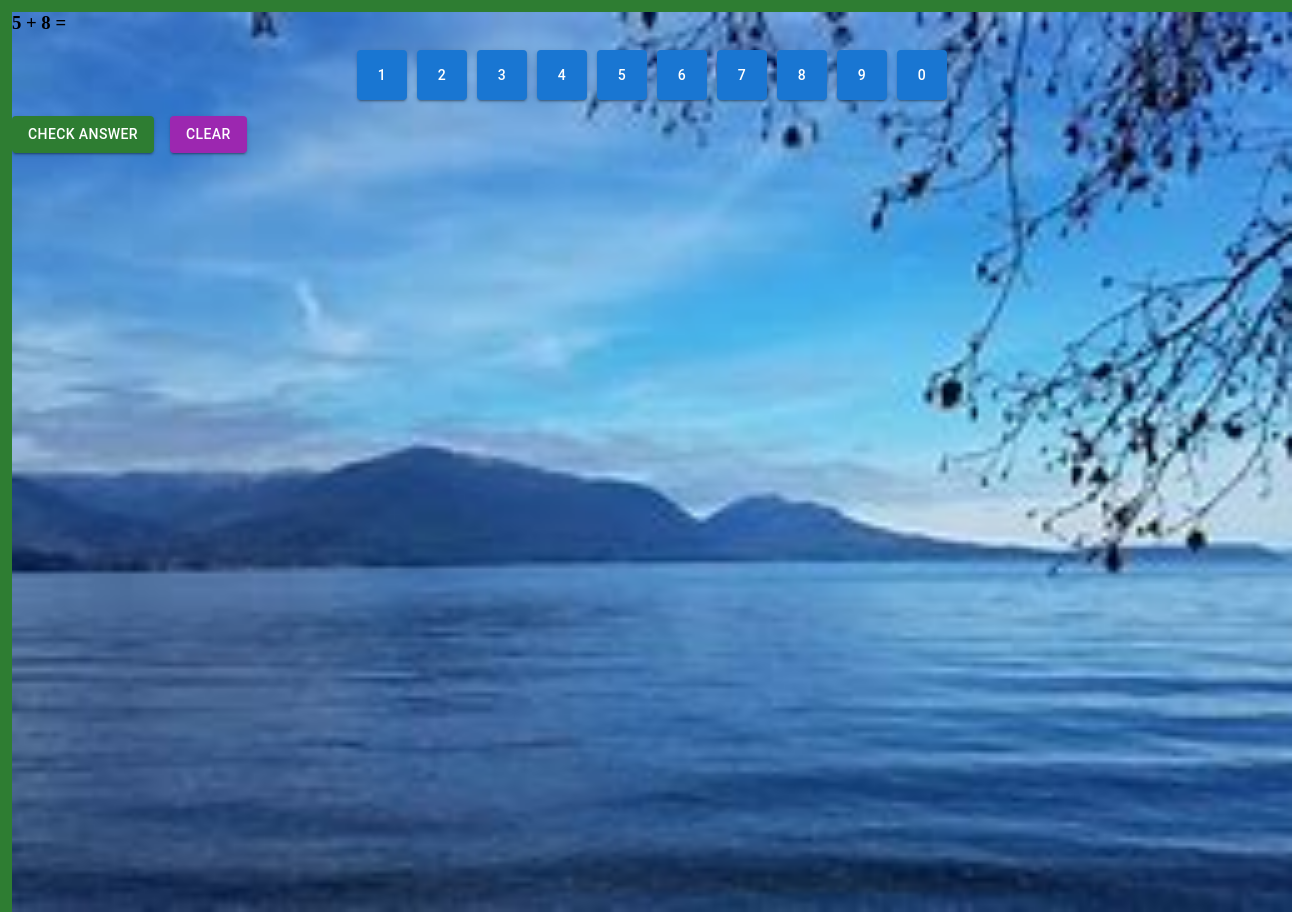
it: Game board › When there are more questions › When the user clicks on the Check Answer button without entering an answer › tells the user to enter an answer
The width and height of the screenshot is (1292, 912).
Click the button "Check Answer" at (83, 134), box [12,116,154,152]
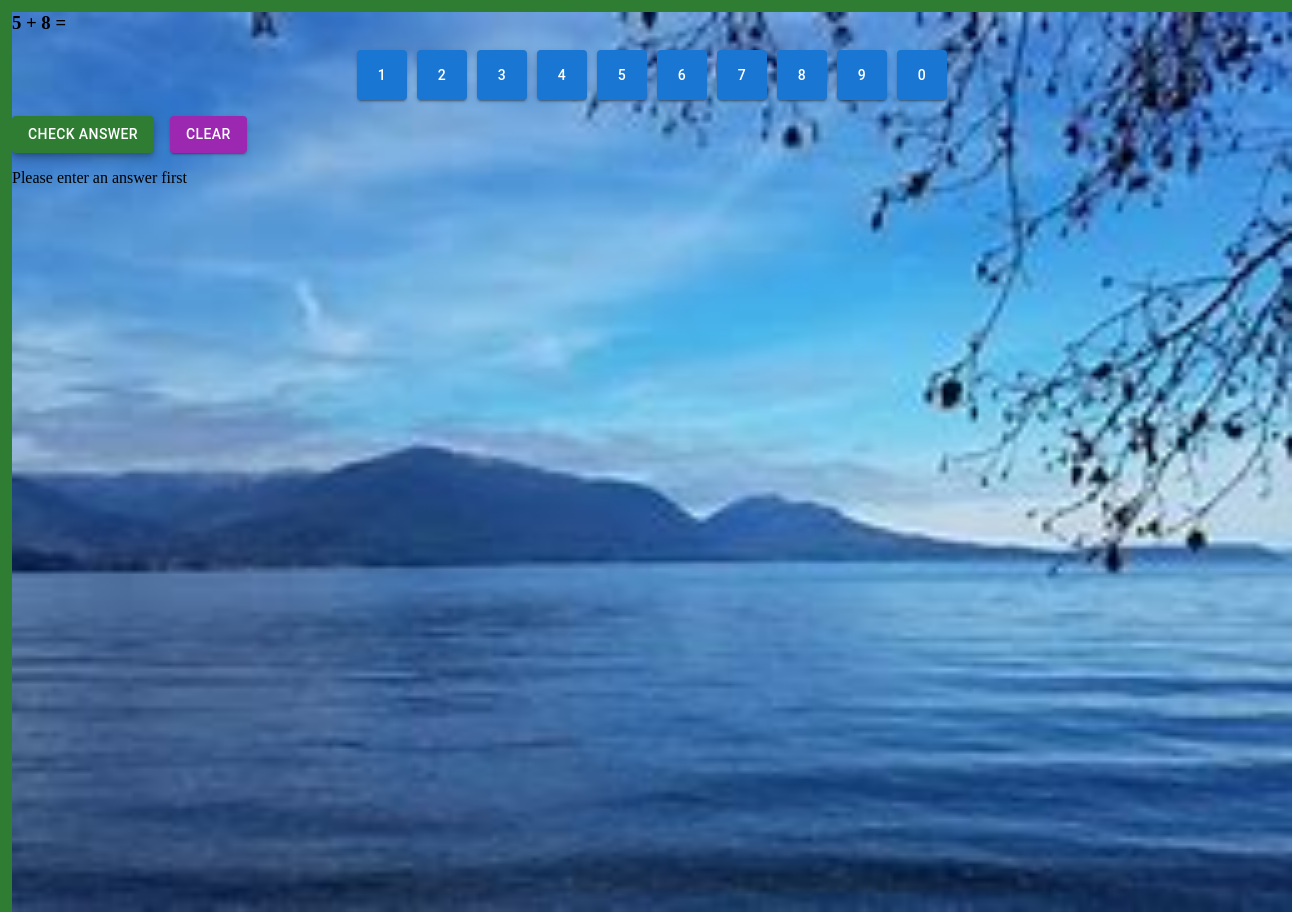
expect the text "Please enter an answer first" is shown: met, box [12,168,187,186]
